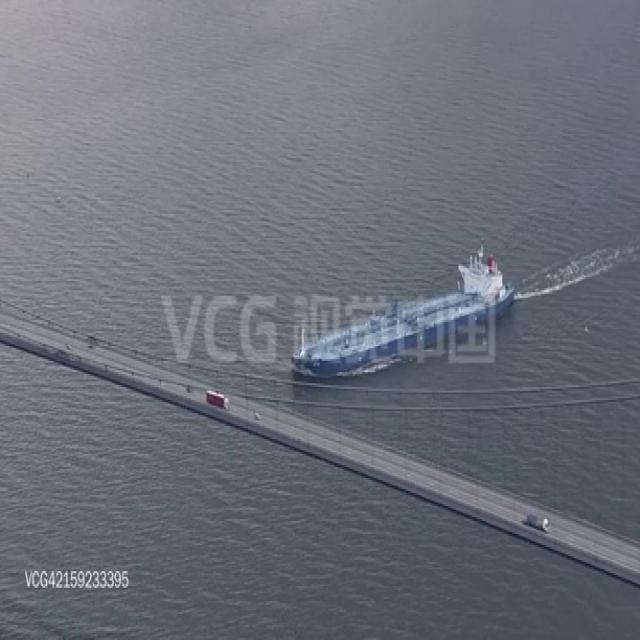cargoship: (288, 247, 515, 372)
